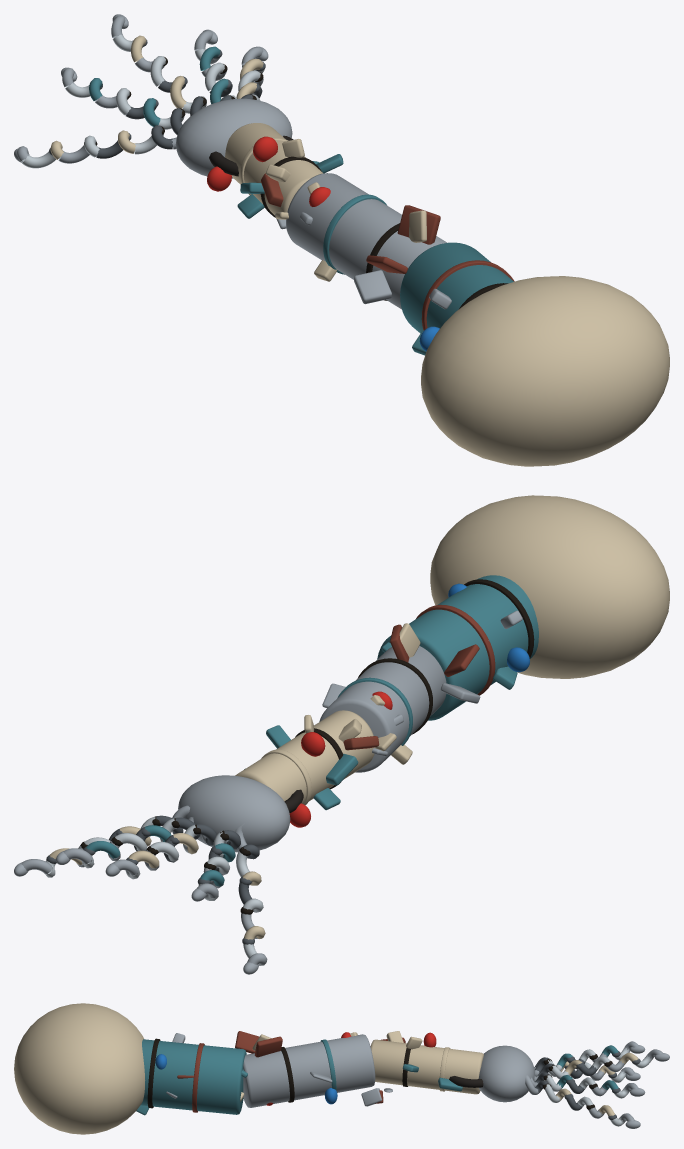
The picture shows the model from 3 angles, top to bottom: view 1: azimuth 30°, elevation 25°; view 2: azimuth 150°, elevation 25°; view 3: azimuth 270°, elevation 25°; orthographic projection. The views are drawn at different scales.
Parts seen in each view (by area): view 1: shoulder_collage, arm_segment_1, arm_segment_0, palm, arm_segment_2, patch_plate_31, patch_plate_22, arm_segment_0_break_1, arm_segment_1_break_1; view 2: shoulder_collage, arm_segment_0, arm_segment_1, palm, arm_segment_2, arm_segment_0_break_1, arm_segment_0_break_0; view 3: shoulder_collage, arm_segment_1, arm_segment_0, arm_segment_2, palm, patch_plate_22, arm_segment_0_break_0, arm_segment_0_break_1, patch_plate_18, arm_segment_1_break_0, wrist_cuff, patch_plate_11 (+1 smaller).
Part boxes in pixels (x1=…): shoulder_collage: x1=421, y1=276, x2=669, y2=466; arm_segment_1: x1=286, y1=173, x2=447, y2=309; arm_segment_0: x1=400, y1=242, x2=513, y2=333; palm: x1=175, y1=98, x2=292, y2=178; arm_segment_2: x1=225, y1=123, x2=322, y2=215; patch_plate_31: x1=354, y1=270, x2=391, y2=304; patch_plate_22: x1=397, y1=205, x2=440, y2=244; arm_segment_0_break_1: x1=421, y1=260, x2=514, y2=330; arm_segment_1_break_1: x1=323, y1=194, x2=386, y2=274; shoulder_collage: x1=430, y1=495, x2=669, y2=678; arm_segment_0: x1=377, y1=575, x2=538, y2=720; arm_segment_1: x1=319, y1=646, x2=446, y2=772; palm: x1=178, y1=775, x2=290, y2=852; arm_segment_2: x1=235, y1=710, x2=375, y2=803; arm_segment_0_break_1: x1=416, y1=604, x2=495, y2=695; arm_segment_0_break_0: x1=464, y1=579, x2=534, y2=658; shoulder_collage: x1=14, y1=1003, x2=145, y2=1134; arm_segment_1: x1=243, y1=1034, x2=375, y2=1107; arm_segment_0: x1=141, y1=1039, x2=246, y2=1114; arm_segment_2: x1=370, y1=1039, x2=483, y2=1094; palm: x1=478, y1=1045, x2=534, y2=1102; patch_plate_22: x1=254, y1=1036, x2=282, y2=1057; arm_segment_0_break_0: x1=147, y1=1038, x2=160, y2=1108; arm_segment_0_break_1: x1=192, y1=1043, x2=204, y2=1112; patch_plate_18: x1=235, y1=1031, x2=259, y2=1053; arm_segment_1_break_0: x1=281, y1=1047, x2=294, y2=1102; wrist_cuff: x1=449, y1=1076, x2=483, y2=1087; patch_plate_11: x1=361, y1=1088, x2=381, y2=1106.
Bounding box in the file's own units: 0.7599 × 0.476 × 2.58.
